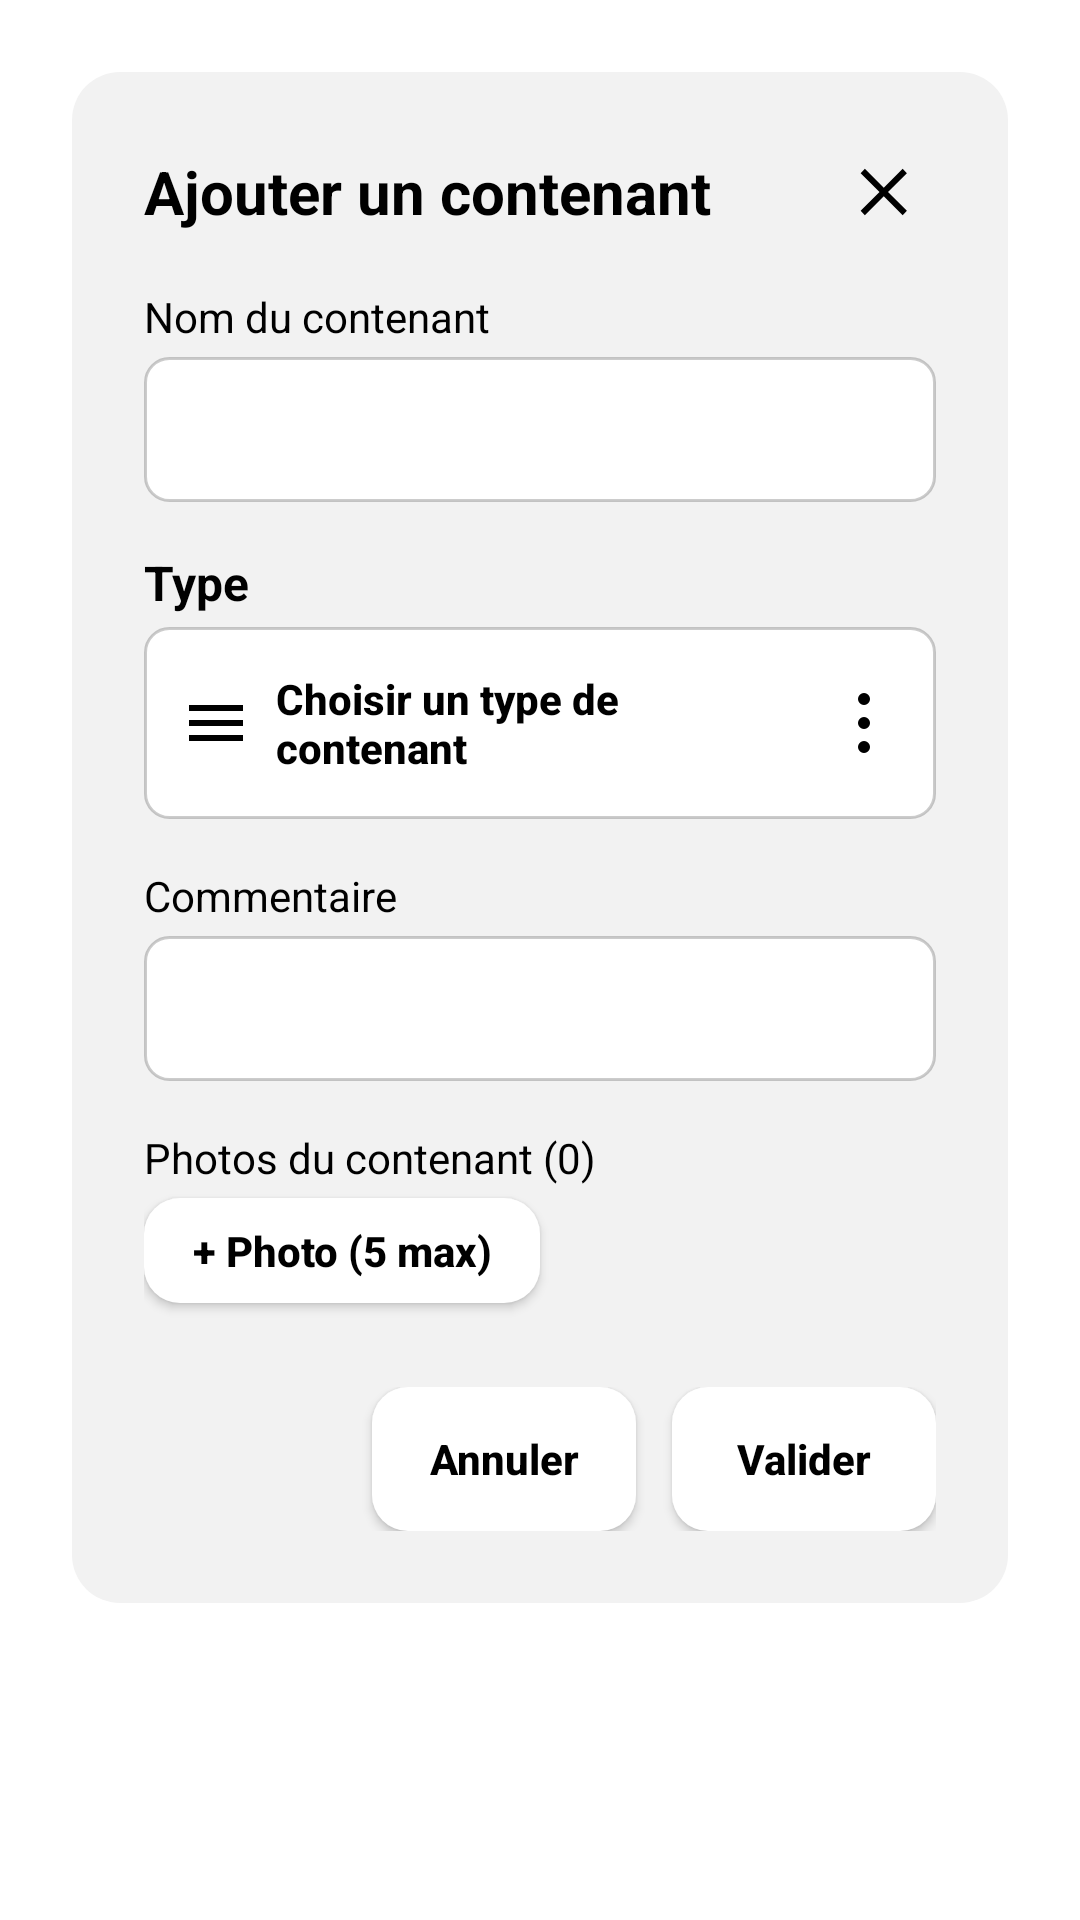

Icon bounding boxes for this 1080 × 1920 phone screenshot, format detection(x1, y1, x2, y2):
Fermer la fenêtre modale: detection(860, 169, 907, 215)
